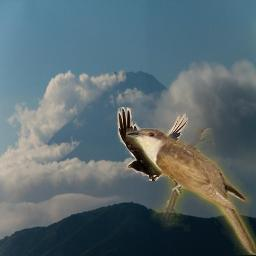Crow: (117, 107, 188, 181)
Cuckoo: (126, 128, 256, 255)
